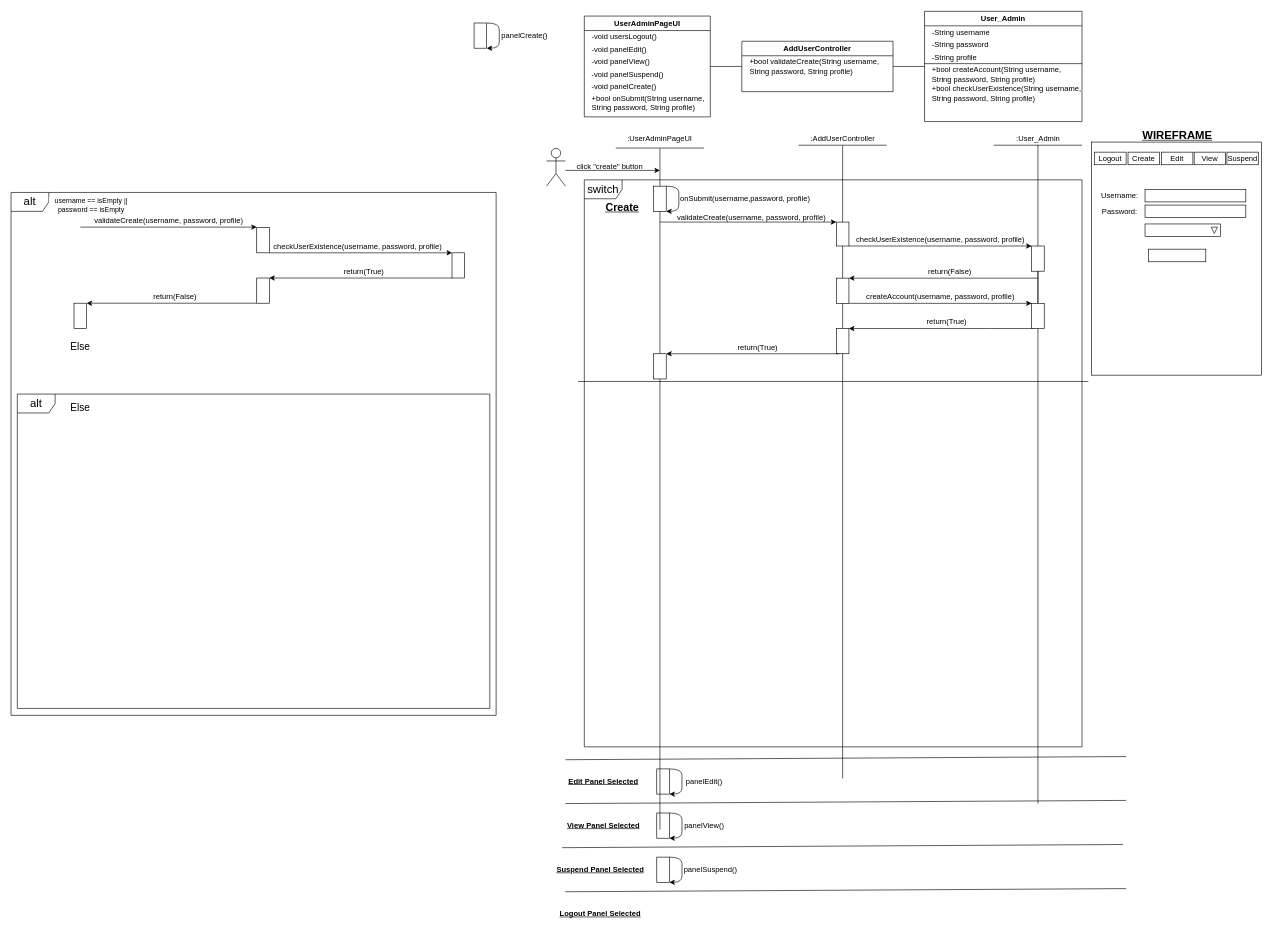
This 1273x931 diagram has some shape labels left out. Here are the shapes that lost their labels. From the top down, the centre of each, then its label:
point 555,167: User Admin
point 1182,230: Profile
point 1177,255: Create Account
